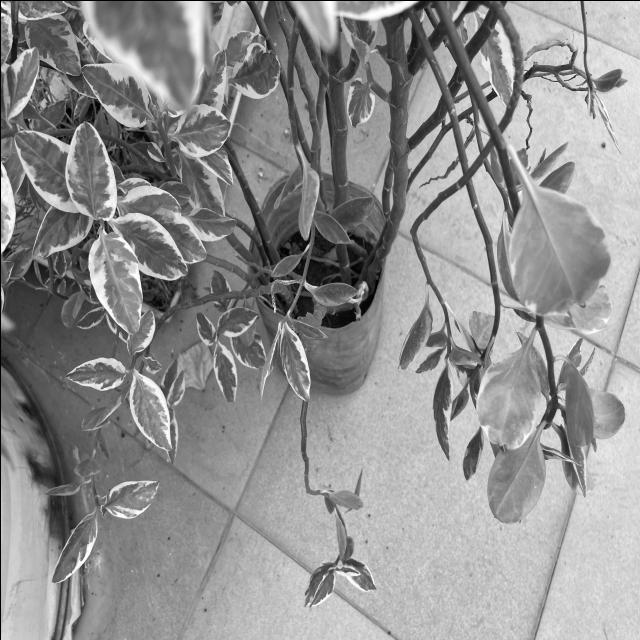Breeding Place: (246, 168, 383, 392)
